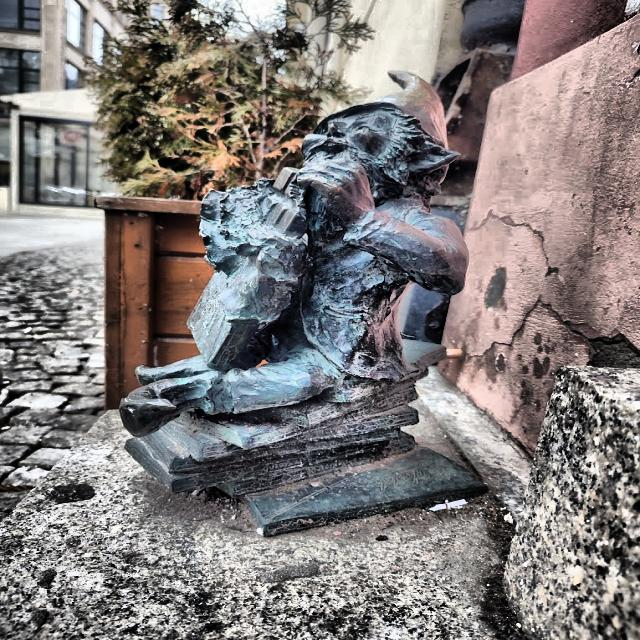Wedelek: (120, 72, 485, 536)
